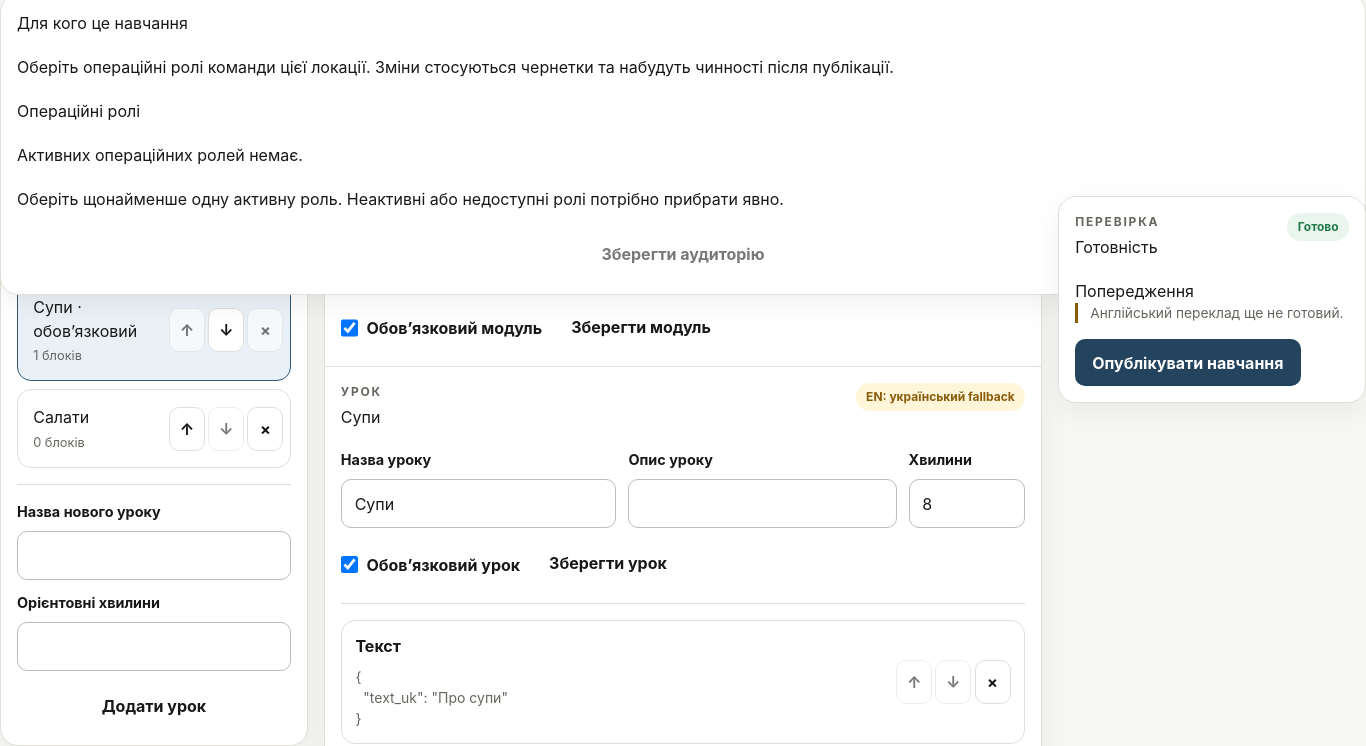
Test: Admin Training workspace › previews changed lessons, records the preserve choice and confirms rollout
(page scrolled)
Click the button "Опублікувати навчання". click: (1188, 362)
box: x1=1075 y1=339 x2=1300 y2=386
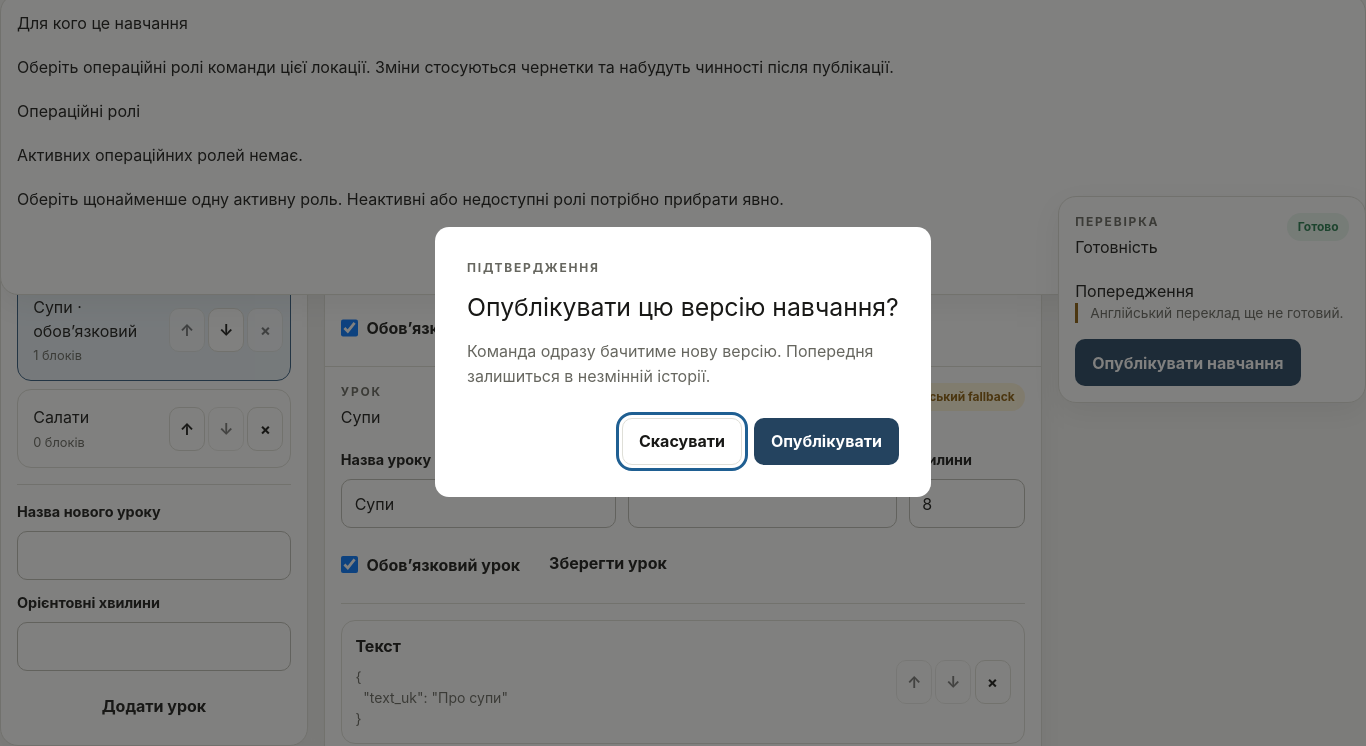
Click the button "Опублікувати". click: (826, 441)
box: x1=754 y1=418 x2=899 y2=465
(page scrolled)
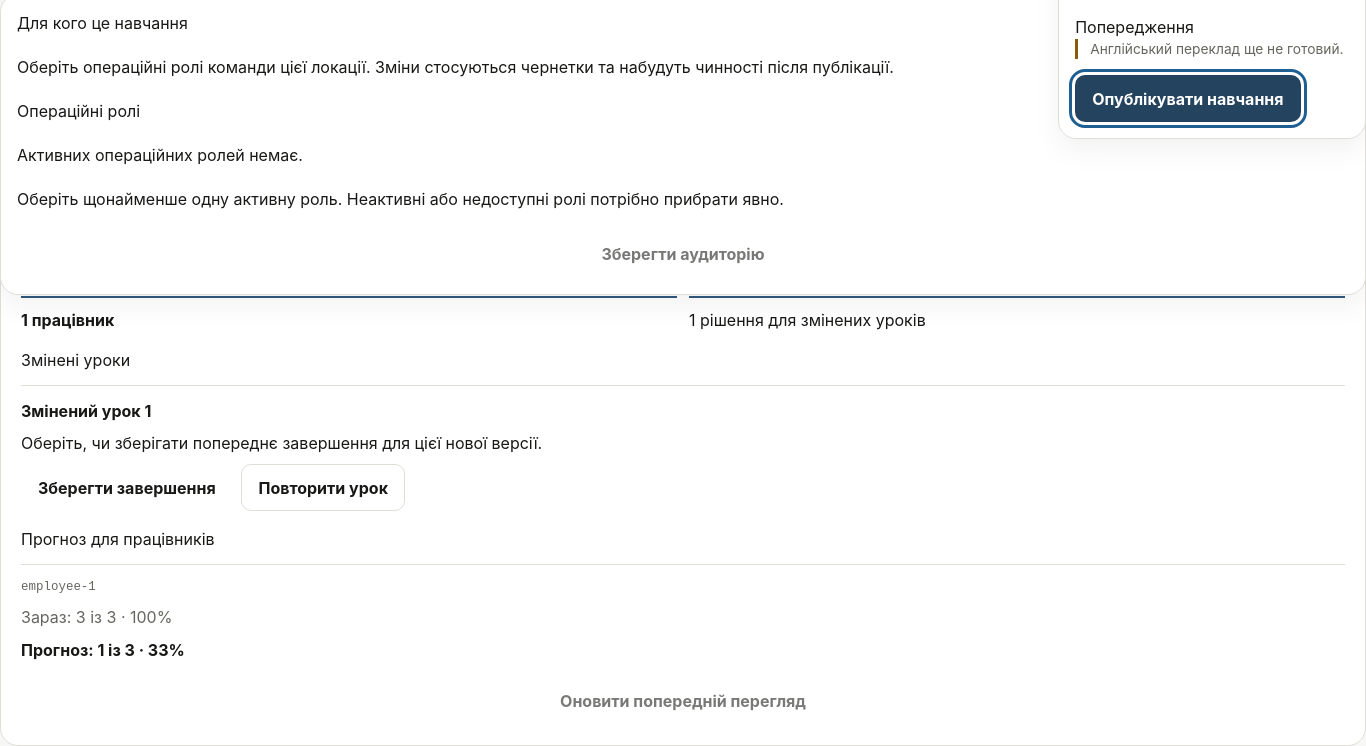
Result: the heading "Перенесення прогресу" is shown at x1=21 y1=198 x2=204 y2=222
Result: the text "1 працівник" is shown at x1=21 y1=296 x2=677 y2=332
Result: the text "1 рішення для змінених уроків" is shown at x1=689 y1=296 x2=1345 y2=332
Click the button "Зберегти завершення". click: (127, 488)
box: x1=21 y1=464 x2=233 y2=511
(page scrolled)
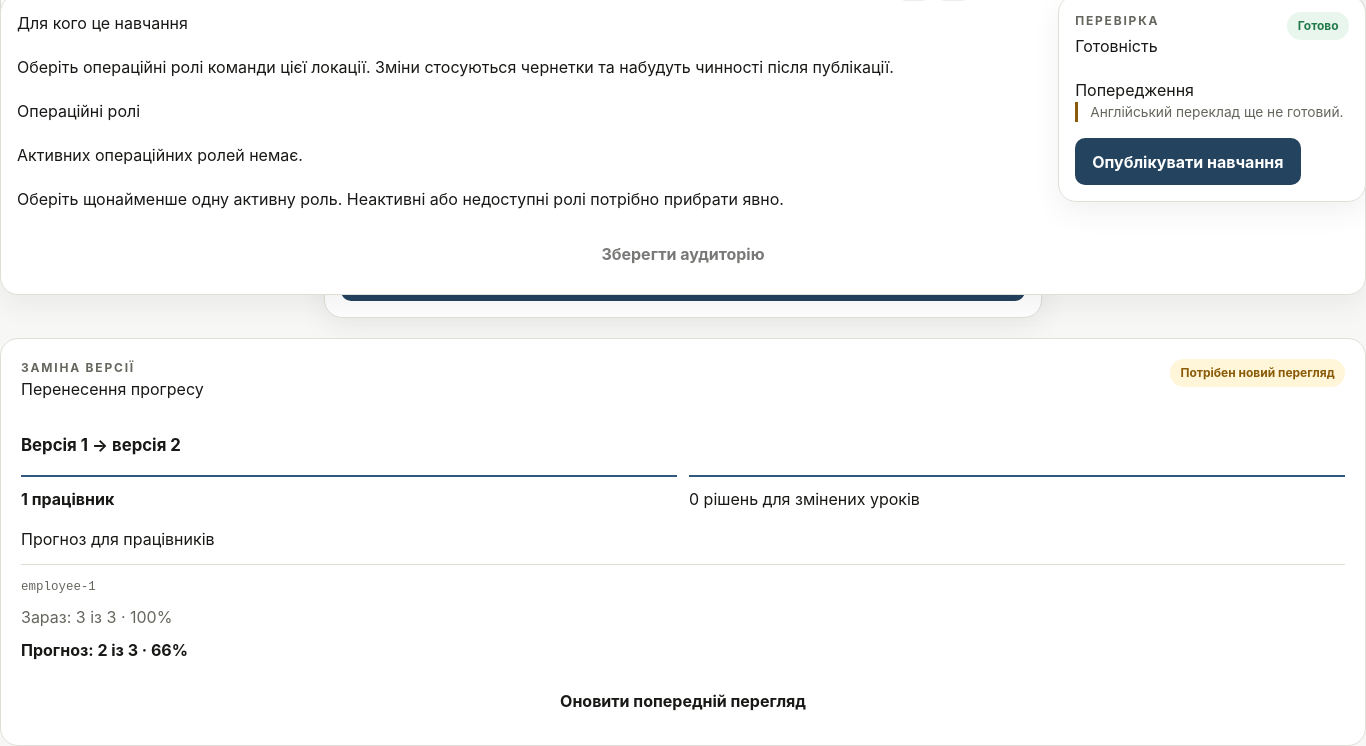
Result: the text "Потрібен новий перегляд" is shown at x1=1170 y1=359 x2=1345 y2=387
Click the button "Оновити попередній перегляд". click: (683, 701)
box: x1=21 y1=678 x2=1345 y2=725
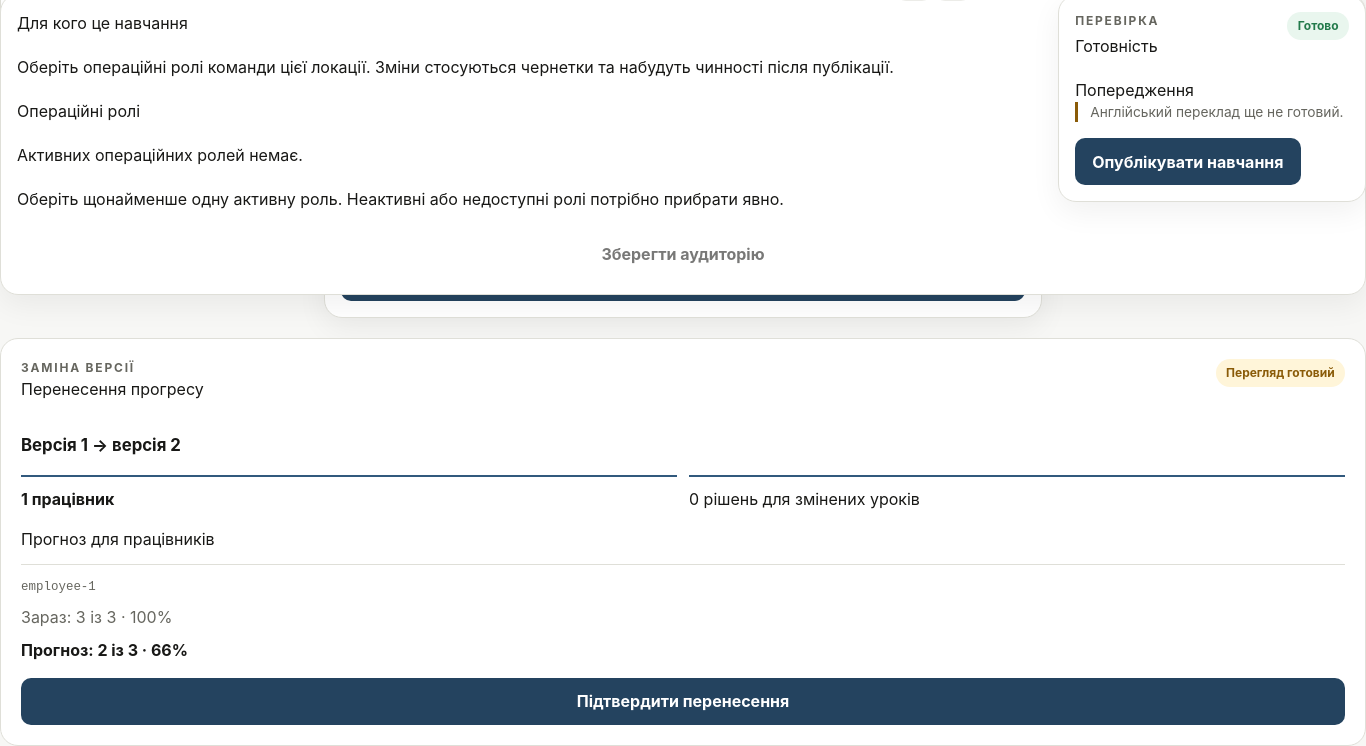
Result: the text "Прогноз: 2 із 3 · 66%" is shown at x1=21 y1=640 x2=188 y2=660
Click the button "Підтвердити перенесення". click: (683, 701)
box: x1=21 y1=678 x2=1345 y2=725
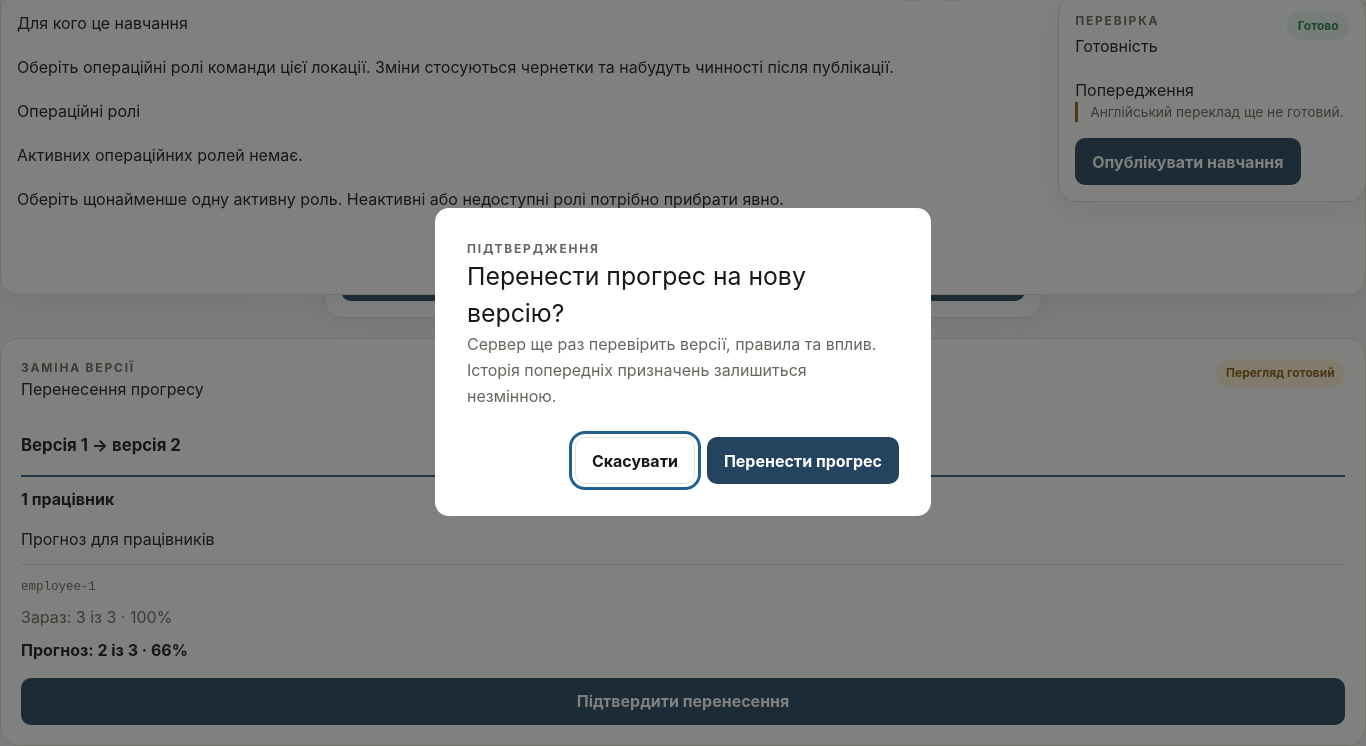
Click the button "Перенести прогрес". click: (803, 461)
box: x1=707 y1=437 x2=899 y2=484
(page scrolled)
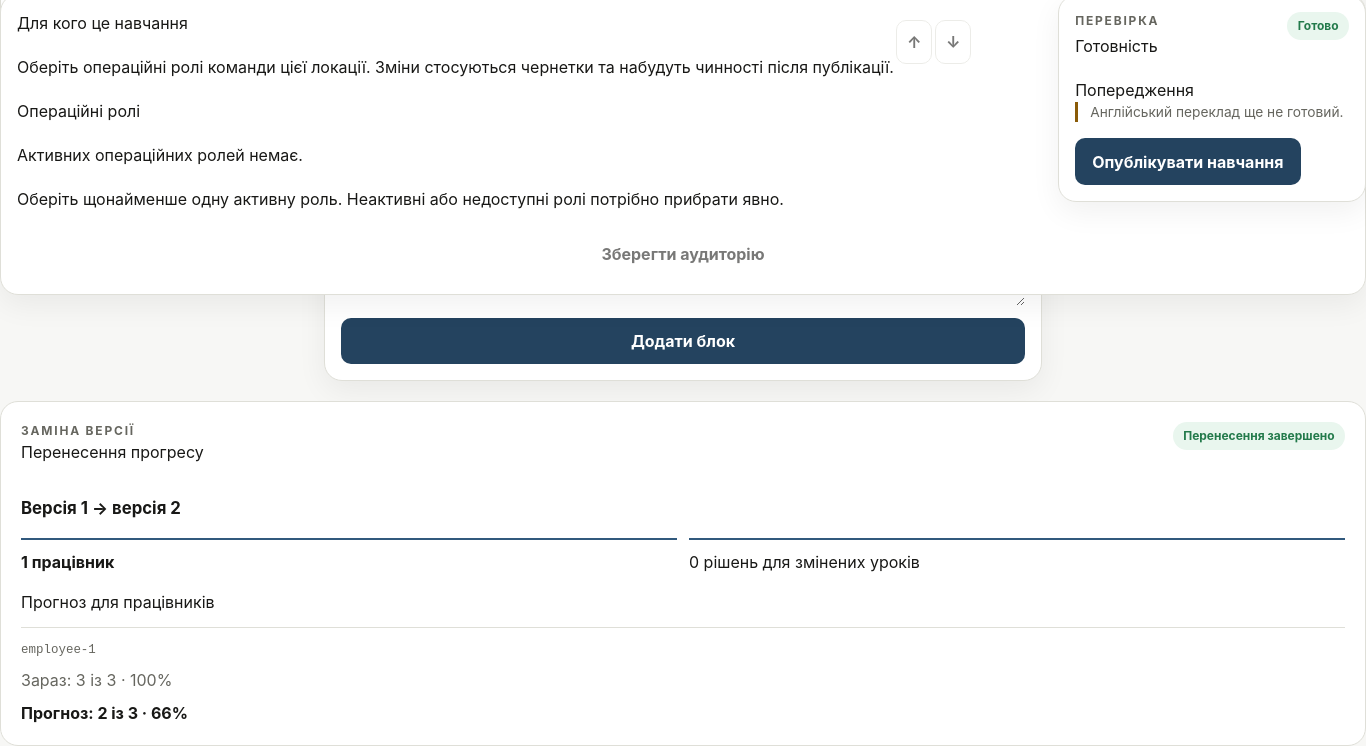
Result: the text "Перенесення завершено" is shown at x1=1173 y1=422 x2=1345 y2=450
